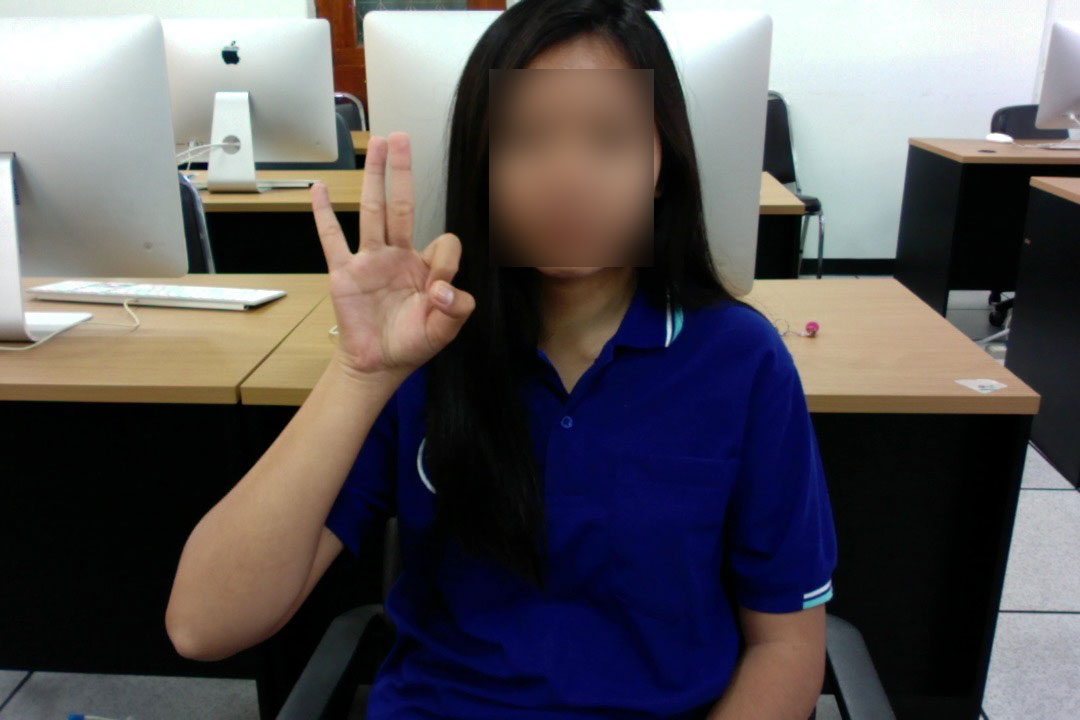for: (300, 125, 483, 407)
